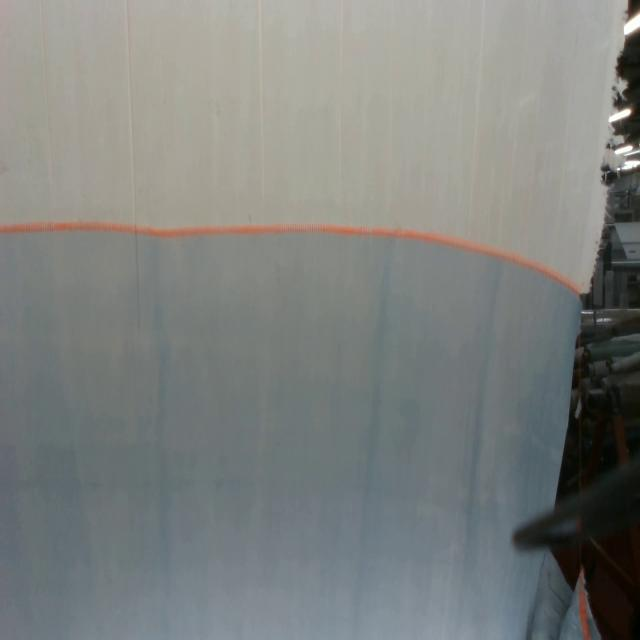crease: (125, 0, 141, 334), (468, 0, 485, 229), (39, 1, 56, 201), (257, 0, 267, 202), (338, 0, 344, 207)
